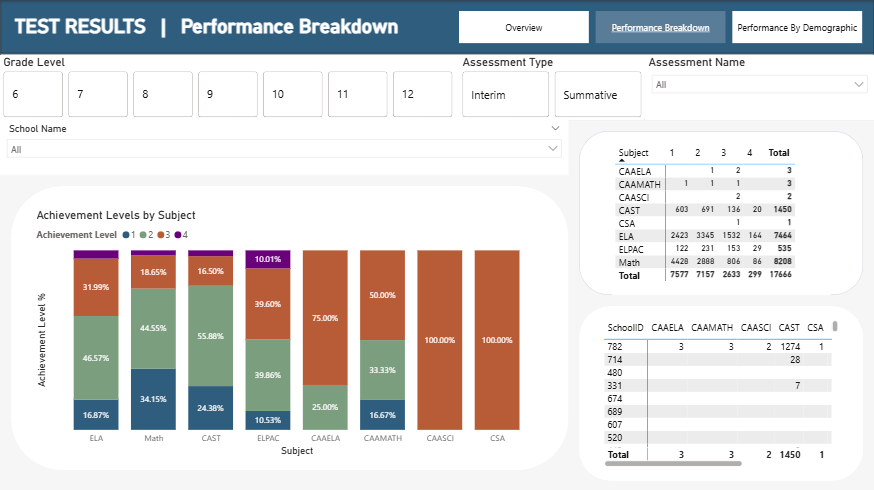

The page's visual inventory and layout, read from the dashboard file:
{"tool":"powerbi","page":{"name":"Performance Breakdown","canvas":[1280,720],"ordinal":1},"visuals":[{"type":"group","id":"g1","title":"Group 1","box":[0,0,1280,176],"z":0},{"type":"shape","box":[0,0,1280,79.4],"z":0,"group":"g1"},{"type":"textbox","box":[16,0,624,80],"z":1000},{"type":"shape","box":[0,78.2,1280,97.8],"z":1000,"group":"g1"},{"type":"advancedSlicerVisual","title":"Grade Level","fields":{"Values":["test_results.GradeLevelWhenAssessed"]},"box":[0,80,672,96],"z":2000},{"type":"advancedSlicerVisual","title":"Assessment Type","fields":{"Values":["test.AssessmentType"]},"box":[672,80,272,96],"z":3000},{"type":"slicer","title":"Assessment Name","fields":{"Values":["test.AssessmentName"]},"box":[944,80,336,96],"z":4000},{"type":"shape","box":[848,192,416,240],"z":5000},{"type":"shape","box":[848,448,416,256],"z":6000},{"type":"shape","box":[16,272,816,416],"z":7000},{"type":"pivotTable","fields":{"Rows":["test.Subject"],"Values":["CountNonNull(test_results.ScaleScoreAchievementLevel)"],"Columns":["test_results.ScaleScoreAchievementLevel"]},"box":[896,208,320,224],"z":8000},{"type":"slicer","fields":{"Values":["school.SchoolName"]},"box":[0,176,832,80],"z":9000},{"type":"pivotTable","fields":{"Rows":["school.SchoolID"],"Columns":["test.Subject"],"Values":["CountNonNull(test_results.ScaleScoreAchievementLevel)"]},"box":[880,464,352,224],"z":10000},{"type":"hundredPercentStackedColumnChart","title":"Achievement Levels by Subject","fields":{"Category":["test.Subject"],"Y":["Sum(test_results.ScaleScoreAchievementLevel)"],"Series":["test_results.ScaleScoreAchievementLevel"]},"box":[48,304,752,368],"z":11000},{"type":"pageNavigator","box":[672,16,592,48],"z":11001}]}

Visuals, with their boxes in screenshot pixels (x1, y1, x2, y2), scaled from the page's 1280x720 canvas onto the 874x490 screenshot:
"Group 1" group: Rect(0, 0, 873, 120)
shape: Rect(0, 0, 873, 54)
textbox: Rect(11, 0, 437, 54)
shape: Rect(0, 53, 873, 120)
"Grade Level" advancedSlicerVisual: Rect(0, 54, 459, 120)
"Assessment Type" advancedSlicerVisual: Rect(459, 54, 645, 120)
"Assessment Name" slicer: Rect(645, 54, 873, 120)
shape: Rect(579, 131, 863, 294)
shape: Rect(579, 305, 863, 479)
shape: Rect(11, 185, 568, 468)
pivotTable - test.Subject x CountNonNull(test_results.ScaleScoreAchievementLevel): Rect(612, 142, 830, 294)
slicer - school.SchoolName: Rect(0, 120, 568, 174)
pivotTable - school.SchoolID x test.Subject: Rect(601, 316, 841, 468)
"Achievement Levels by Subject" hundredPercentStackedColumnChart: Rect(33, 207, 546, 457)
pageNavigator: Rect(459, 11, 863, 44)
